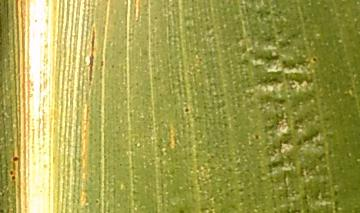tarspot: (180, 105, 193, 115), (252, 131, 262, 143), (11, 154, 21, 163), (311, 55, 319, 65), (5, 169, 16, 176), (9, 175, 19, 181)
